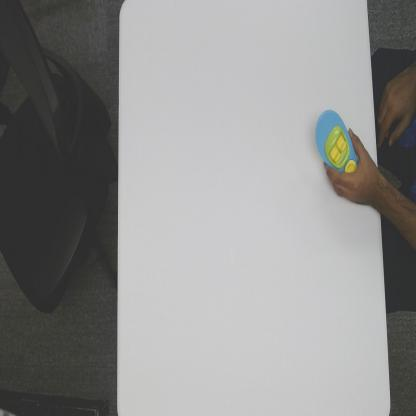Boat: (315, 108, 359, 174)
Hand: (324, 126, 378, 207)
